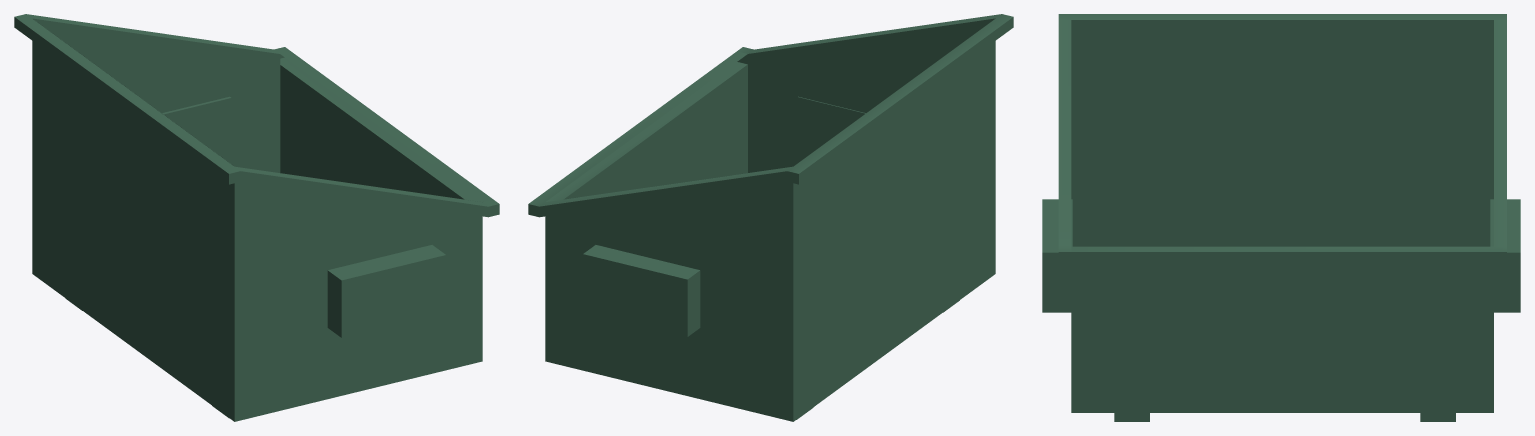
Rendered from dumpster_base.glb.
3 renders of one model, left to right at view 1: azimuth 30°, elevation 25°; view 2: azimuth 150°, elevation 25°; view 3: azimuth 270°, elevation 25°, orthographic. The views are drawn at different scales.
Visible parts, largest first — view 1: Cube; view 2: Cube; view 3: Cube.
Part boxes in pixels (<box>): Cube: <box>14,14,499,421</box>; Cube: <box>528,14,1013,421</box>; Cube: <box>1042,14,1520,421</box>.
Size of the model in its own units: 9.84 by 9.4 by 14.43.
